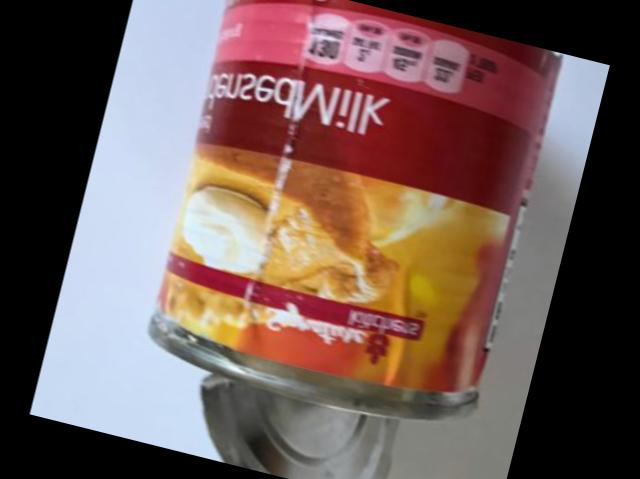metal: (151, 0, 562, 479)
